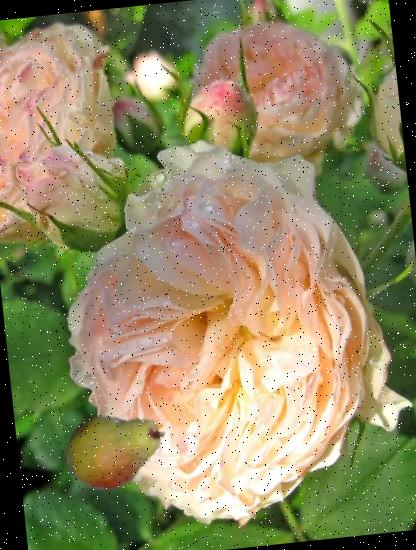Pear: (58, 390, 172, 504)
